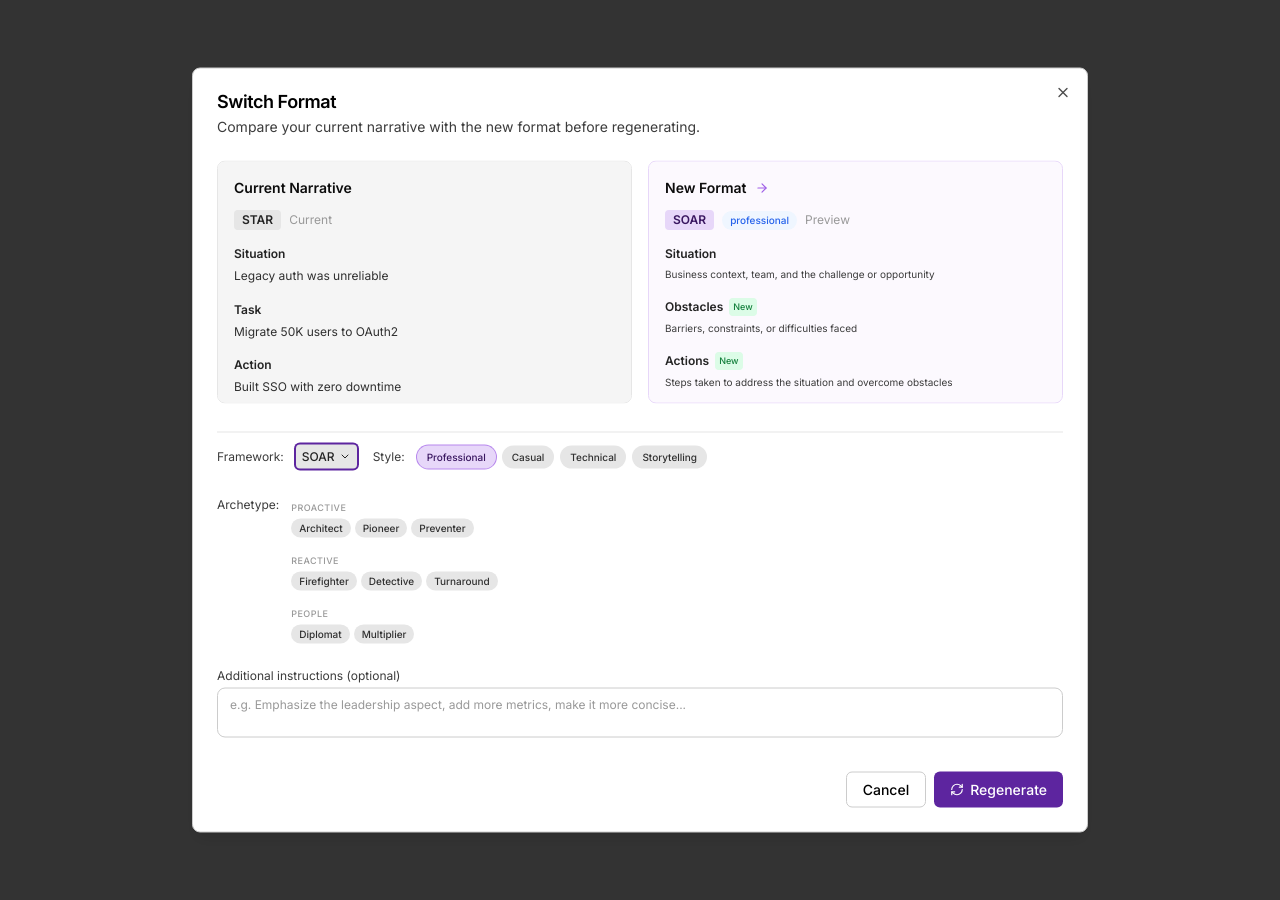
Test: FormatSwitchModal › User prompt textarea › shows character count after typing
In the text box with placeholder "Emphasize the leadership": {"x": 640, "y": 712} 217,688 -> 1063,738, type "Focus on metrics"
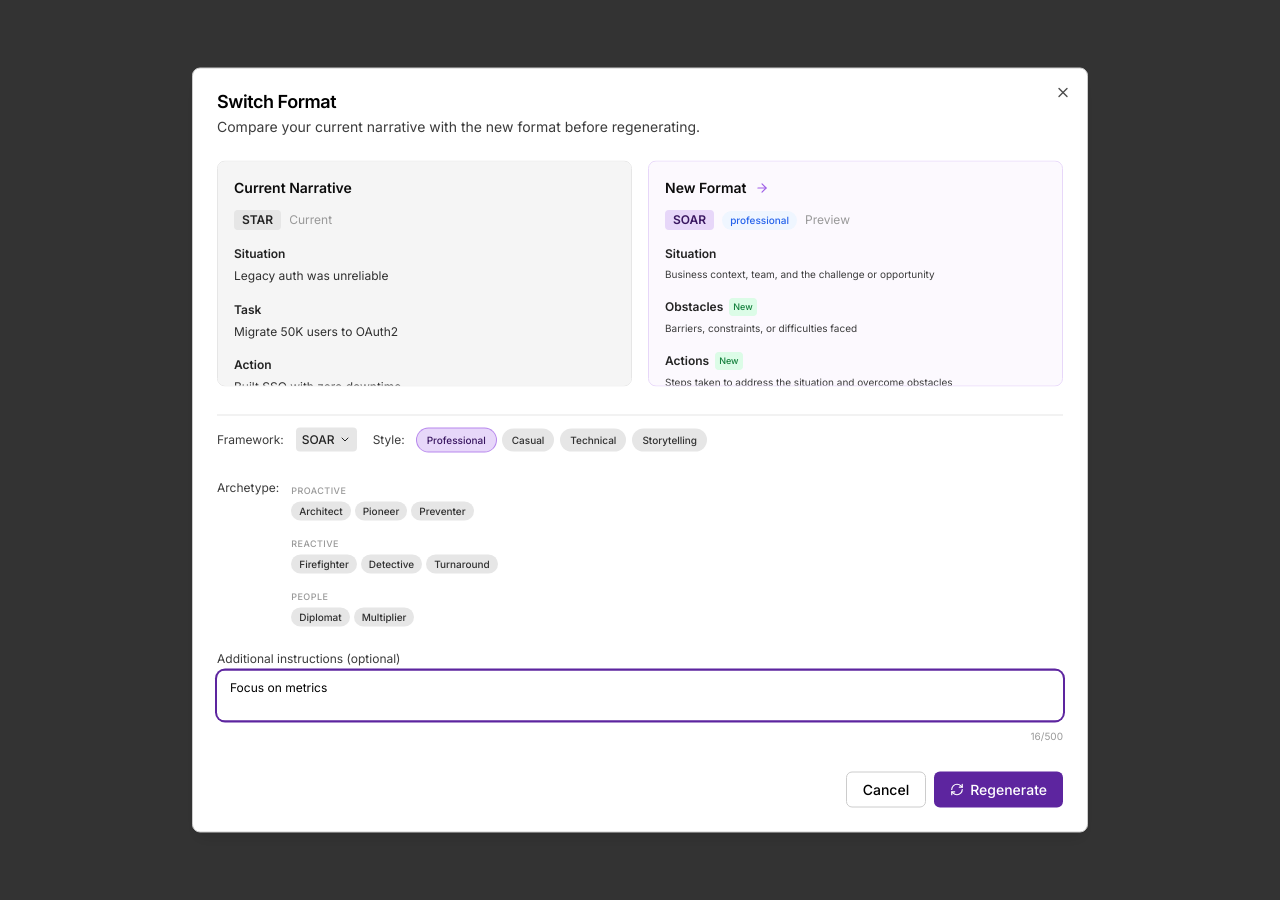
Expected: the text "16/500" is shown, 1030,730 -> 1063,742
